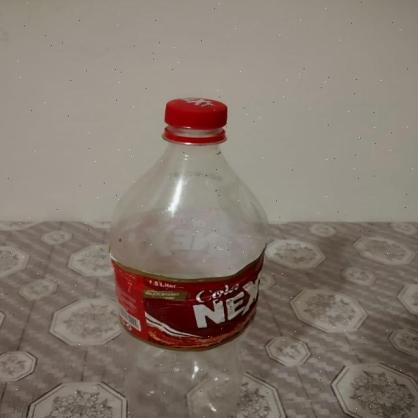bottle: (111, 91, 270, 418)
cap: (159, 100, 235, 146)
label: (109, 252, 263, 350)
